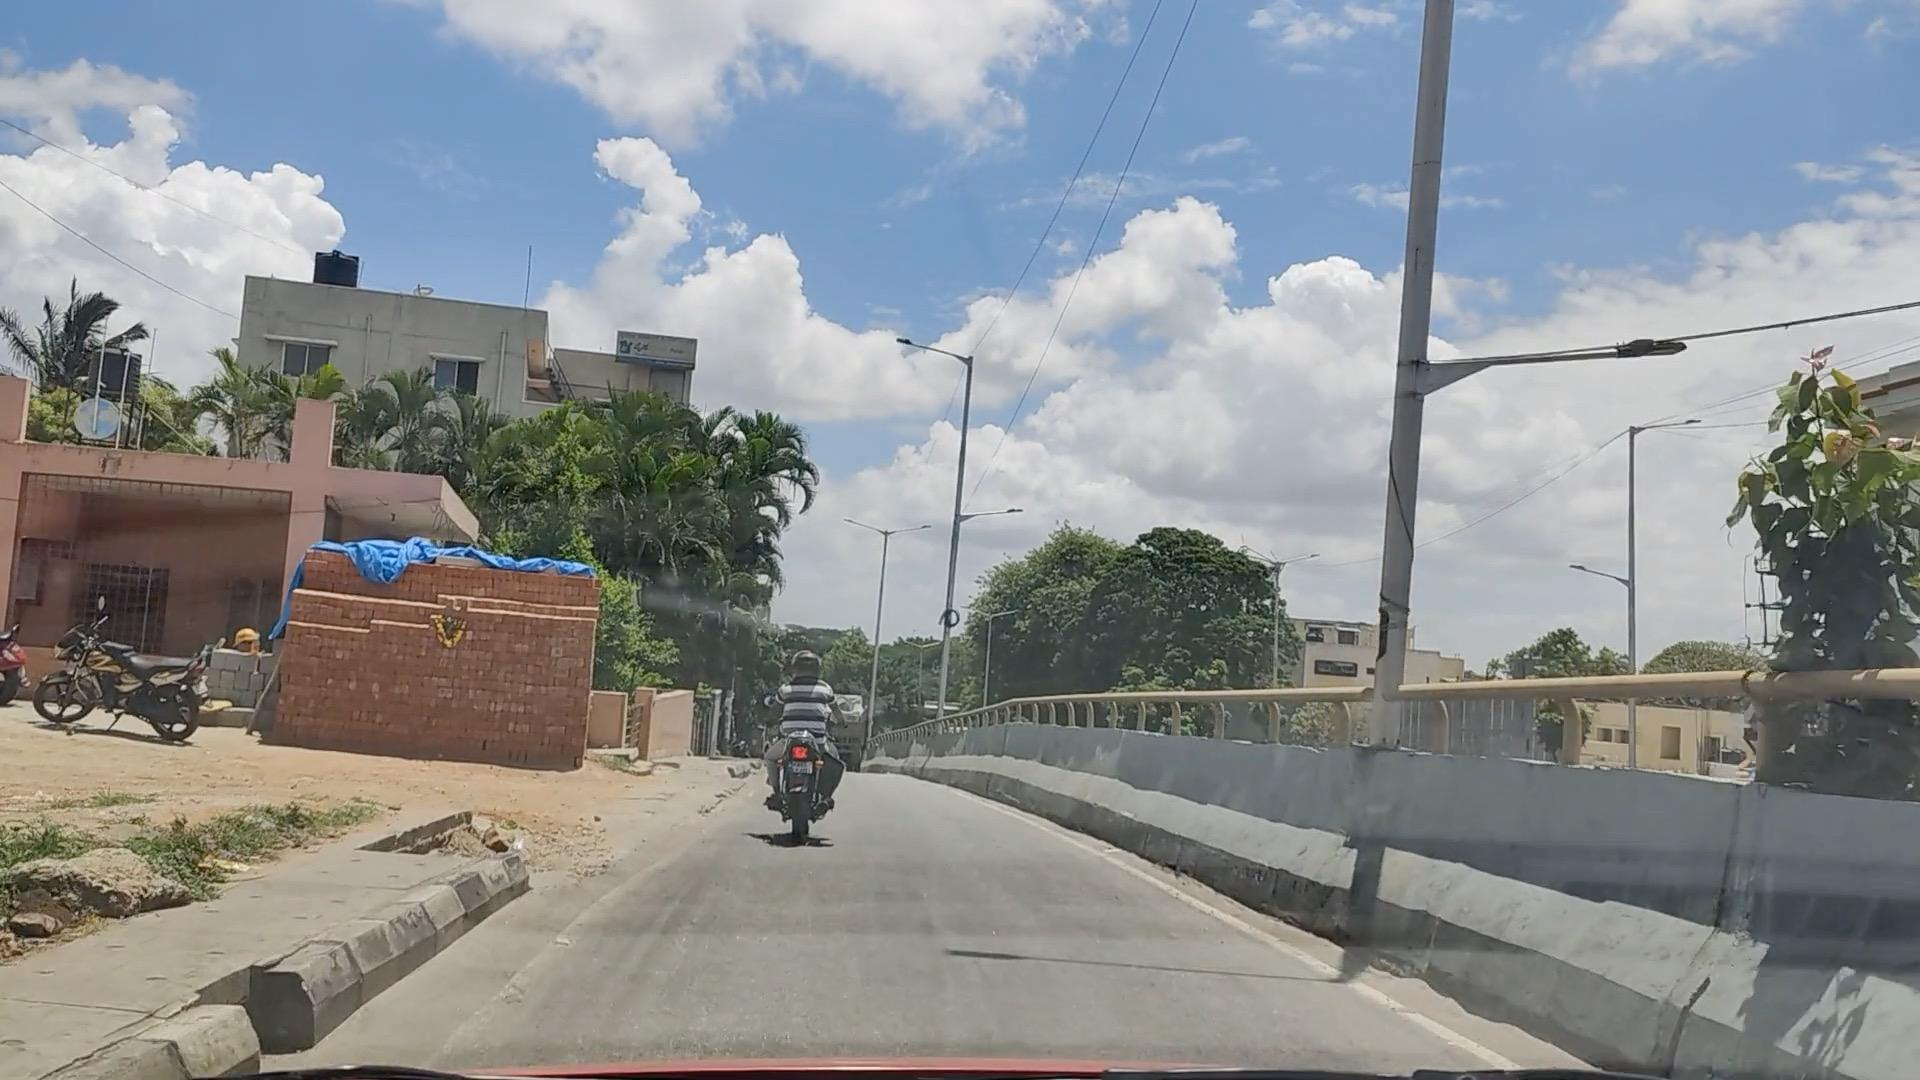LMV: (770, 630, 860, 843), (65, 630, 217, 720)
